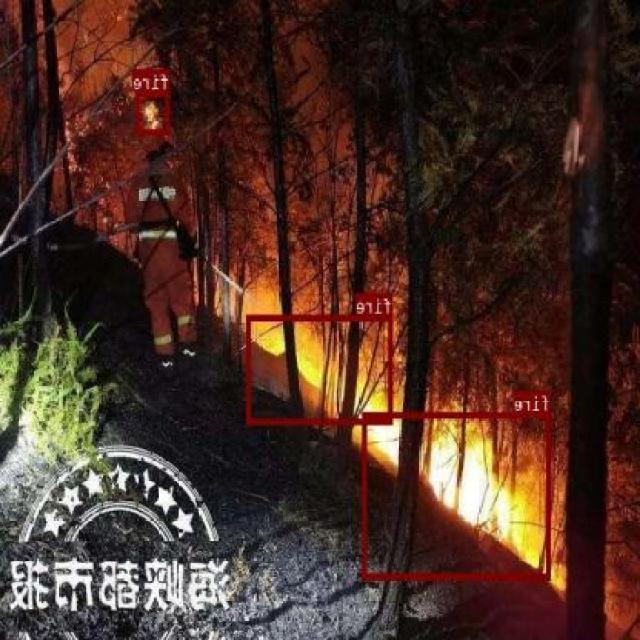Fire: (362, 412, 552, 578), (248, 314, 394, 423), (138, 89, 170, 134)
